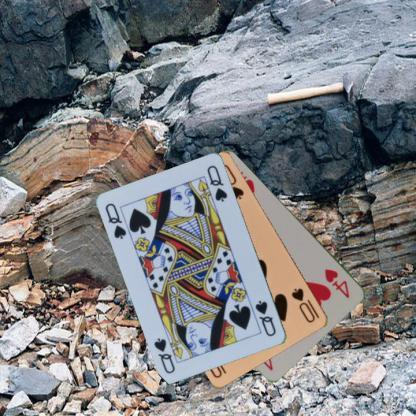10s: (288, 285, 322, 325)
4h: (322, 266, 352, 300)
Qs: (102, 200, 128, 241), (252, 298, 278, 338)
